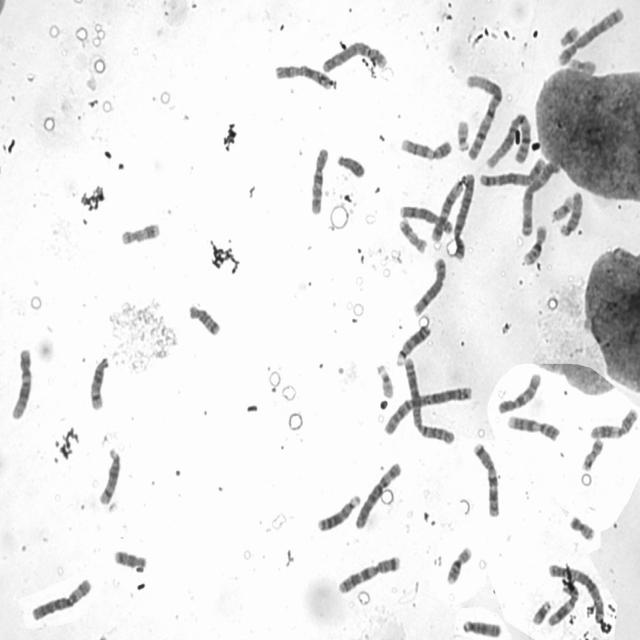A1: (463, 71, 506, 162), (484, 110, 533, 169)
A2: (381, 382, 475, 436), (402, 354, 457, 446)
A3: (545, 561, 607, 621), (519, 156, 562, 237)
B4: (320, 37, 388, 74), (450, 170, 476, 261)
B5: (555, 2, 626, 67), (477, 154, 547, 189)
C10: (495, 368, 543, 414), (307, 143, 330, 216)
C11: (587, 404, 640, 440), (545, 586, 581, 628)
C12: (428, 174, 465, 243), (8, 343, 34, 421)
C6: (352, 456, 404, 530), (28, 574, 94, 623)
C7: (334, 551, 402, 595), (470, 438, 502, 518)
C8: (410, 254, 447, 318), (397, 202, 454, 236)
C9: (504, 412, 561, 442), (397, 133, 453, 162)
D13: (314, 490, 362, 533), (393, 319, 432, 367)
D14: (95, 442, 124, 507), (86, 351, 112, 412)
D15: (557, 188, 585, 238), (460, 616, 503, 638)
E16: (520, 220, 550, 267), (444, 542, 474, 585)
E17: (396, 214, 428, 254), (118, 218, 162, 246)
E18: (186, 300, 222, 338), (110, 545, 149, 572)
F19: (566, 53, 599, 77), (549, 192, 575, 222)
F20: (578, 434, 604, 472), (567, 511, 597, 542)
G21: (530, 596, 553, 626), (557, 21, 581, 48)
G22: (373, 360, 395, 399), (454, 114, 472, 152)
X: (272, 60, 335, 91)
Y: (335, 150, 367, 179)
